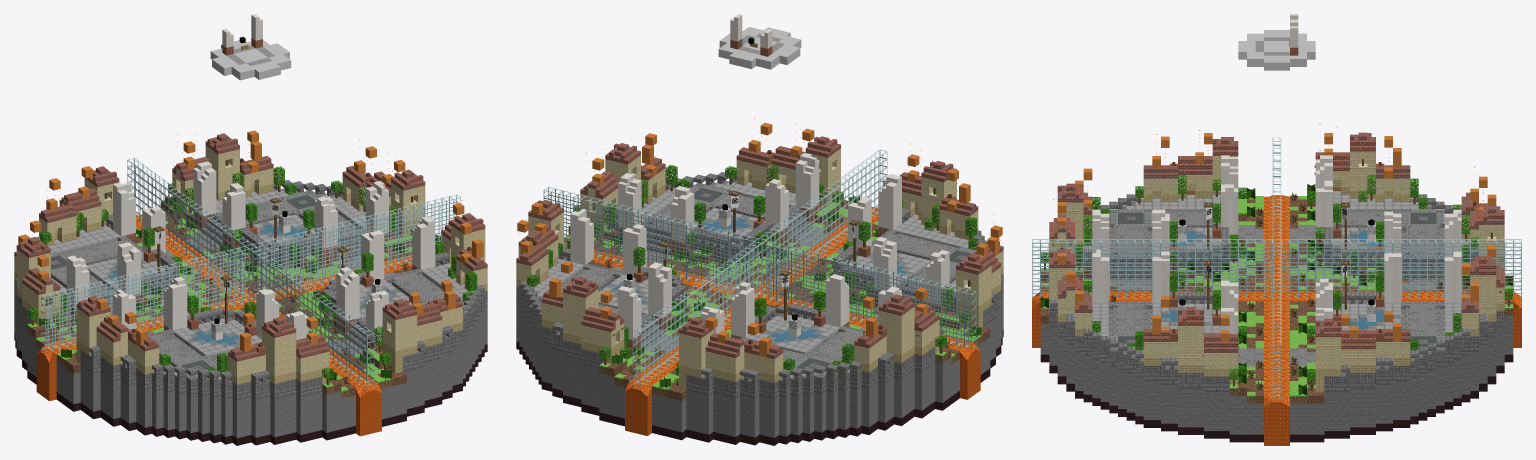
File: minecraft.obj
The picture shows the model from 3 angles, left to right: view 1: azimuth 30°, elevation 25°; view 2: azimuth 150°, elevation 25°; view 3: azimuth 270°, elevation 25°; orthographic projection. The views are drawn at different scales.
Bounding box in the file's own units: 57 × 42 × 57.
